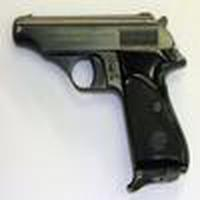gun: (12, 14, 200, 194)
